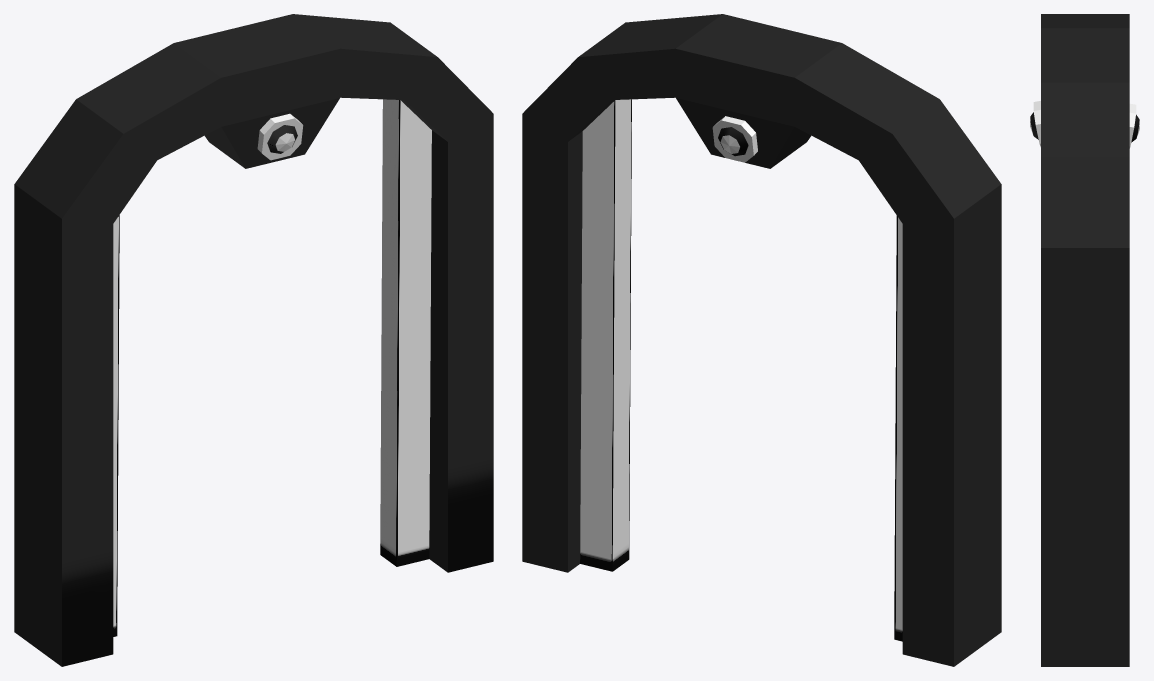
File: Door_Art.fbx
3 renders of one model, left to right at view 1: azimuth 30°, elevation 25°; view 2: azimuth 150°, elevation 25°; view 3: azimuth 270°, elevation 25°, orthographic. The views are drawn at different scales.
Parts seen in each view (by area): view 1: Door_Art; view 2: Door_Art; view 3: Door_Art.
Part boxes in pixels (x1,y1,x2,y2): Door_Art: (14,14,493,666); Door_Art: (522,14,1001,666); Door_Art: (1030,14,1139,666).
Size of the model in its own units: 4.83 by 5.89 by 1.14.
